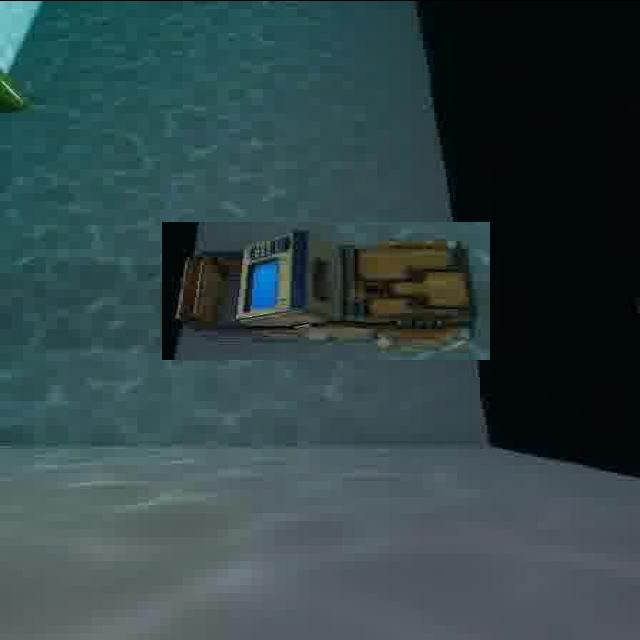Control Panel: (162, 221, 490, 359)
